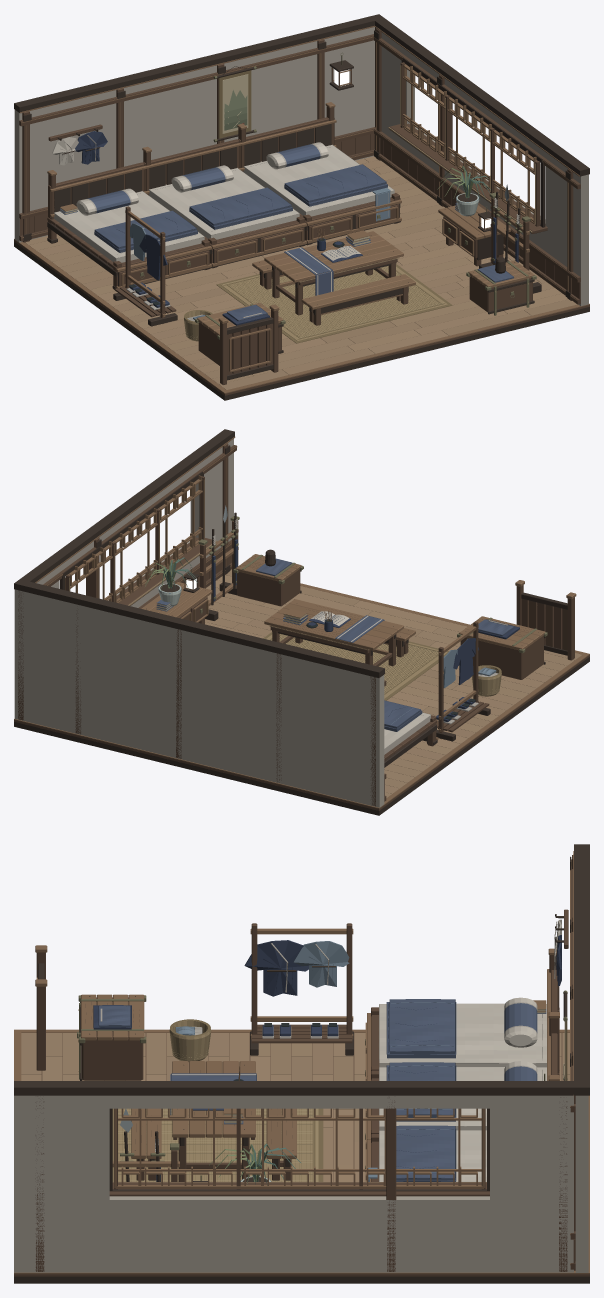
The model's file is male_quarters.glb.
The picture shows the model from 3 angles, top to bottom: view 1: azimuth 30°, elevation 25°; view 2: azimuth 150°, elevation 25°; view 3: azimuth 270°, elevation 25°; orthographic projection. The views are drawn at different scales.
Parts seen in each view (by area): view 1: Male_architecture_Male_matte, Male_bed_east_Male_matte, Male_bed_center_Male_matte, Male_bed_west_Male_matte, Male_window_right_Male_matte, Male_rug_Male_matte, Male_desk_Male_matte, Male_clothes_rack_Male_matte, Male_entry_screen_Male_matte, Male_chest_east_Male_matte, Male_bench_front_Male_matte, Male_wall_scroll_Male_matte (+5 smaller); view 2: Male_architecture_Male_matte, Male_window_right_Male_matte, Male_desk_Male_matte, Male_chest_west_Male_matte, Male_clothes_rack_Male_matte, Male_entry_screen_Male_matte, Male_rug_Male_matte, Male_chest_east_Male_matte, Male_bed_west_Male_matte, Male_weapon_rack_Male_matte, Male_console_Male_matte, Male_plant_Male_matte (+1 smaller); view 3: Male_architecture_Male_matte, Male_window_right_Male_matte, Male_bed_west_Male_matte, Male_clothes_rack_Male_matte, Male_rug_Male_matte, Male_bed_center_Male_matte, Male_chest_west_Male_matte, Male_bed_east_Male_matte, Male_desk_Male_matte, Male_bench_back_Male_matte, Male_wash_basket_Male_matte, Male_bench_front_Male_matte (+5 smaller).
Boxes of the visible parts, left/top/right/bottom form: Male_architecture_Male_matte: left=14, top=14, right=589, bottom=400; Male_bed_east_Male_matte: left=237, top=102, right=401, bottom=245; Male_bed_center_Male_matte: left=142, top=139, right=306, bottom=268; Male_bed_west_Male_matte: left=47, top=162, right=211, bottom=289; Male_window_right_Male_matte: left=388, top=57, right=547, bottom=233; Male_rug_Male_matte: left=216, top=264, right=452, bottom=343; Male_desk_Male_matte: left=264, top=229, right=403, bottom=315; Male_clothes_rack_Male_matte: left=113, top=206, right=177, bottom=326; Male_entry_screen_Male_matte: left=218, top=304, right=279, bottom=384; Male_chest_east_Male_matte: left=468, top=257, right=534, bottom=314; Male_bench_front_Male_matte: left=301, top=274, right=415, bottom=325; Male_wall_scroll_Male_matte: left=217, top=66, right=254, bottom=141; Male_architecture_Male_matte: left=14, top=429, right=589, bottom=815; Male_window_right_Male_matte: left=60, top=471, right=217, bottom=605; Male_desk_Male_matte: left=264, top=599, right=403, bottom=666; Male_chest_west_Male_matte: left=459, top=616, right=545, bottom=679; Male_clothes_rack_Male_matte: left=436, top=621, right=490, bottom=741; Male_entry_screen_Male_matte: left=515, top=580, right=576, bottom=660; Male_rug_Male_matte: left=263, top=632, right=448, bottom=700; Male_chest_east_Male_matte: left=235, top=549, right=301, bottom=606; Male_bed_west_Male_matte: left=384, top=700, right=438, bottom=767; Male_weapon_rack_Male_matte: left=199, top=512, right=238, bottom=620; Male_console_Male_matte: left=141, top=582, right=212, bottom=624; Male_plant_Male_matte: left=145, top=557, right=197, bottom=606; Male_architecture_Male_matte: left=14, top=844, right=589, bottom=1283; Male_window_right_Male_matte: left=109, top=1108, right=489, bottom=1196; Male_bed_west_Male_matte: left=365, top=948, right=559, bottom=1080; Male_clothes_rack_Male_matte: left=244, top=923, right=353, bottom=1055; Male_rug_Male_matte: left=112, top=1108, right=323, bottom=1181; Male_bed_center_Male_matte: left=365, top=1012, right=559, bottom=1149; Male_chest_west_Male_matte: left=80, top=994, right=144, bottom=1080; Male_bed_east_Male_matte: left=365, top=1075, right=559, bottom=1181; Male_desk_Male_matte: left=170, top=1061, right=256, bottom=1181; Male_bench_back_Male_matte: left=266, top=1108, right=296, bottom=1180; Male_wash_basket_Male_matte: left=169, top=1019, right=211, bottom=1061; Male_bench_front_Male_matte: left=131, top=1108, right=161, bottom=1180.
Size of the model in its own units: 8 by 3 by 8.
